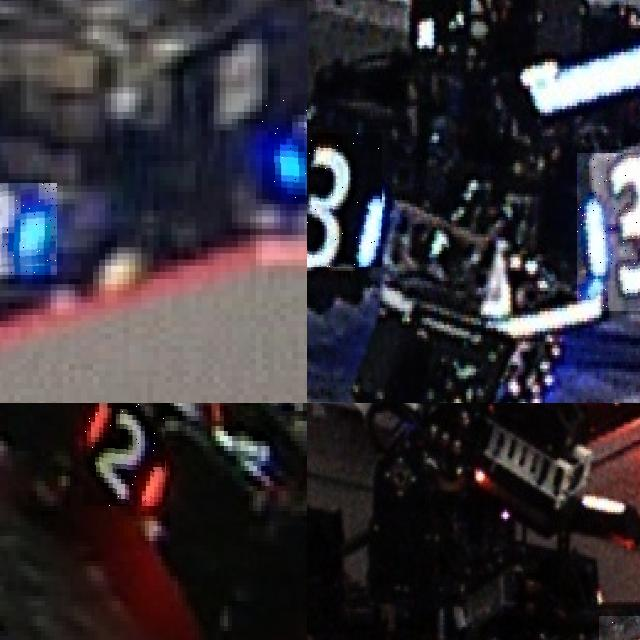B2: (0, 182, 57, 275), (262, 93, 307, 204)
B3: (307, 132, 382, 267), (577, 152, 640, 311)
R2: (82, 403, 165, 506)
